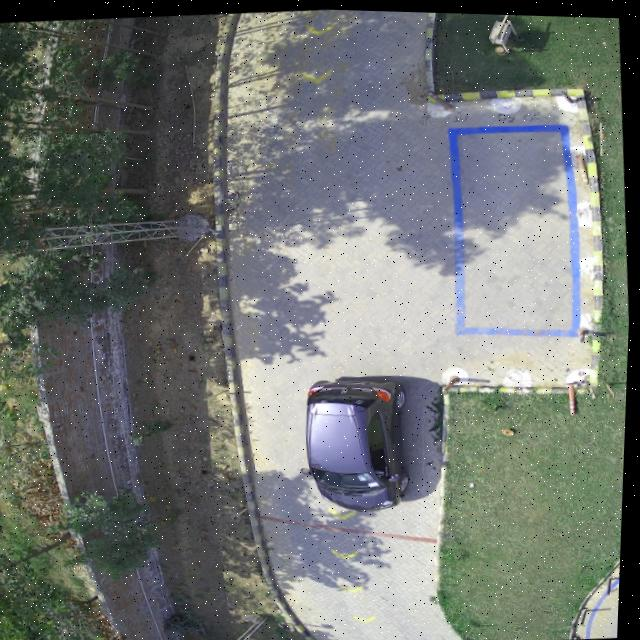car: (305, 371, 418, 511)
